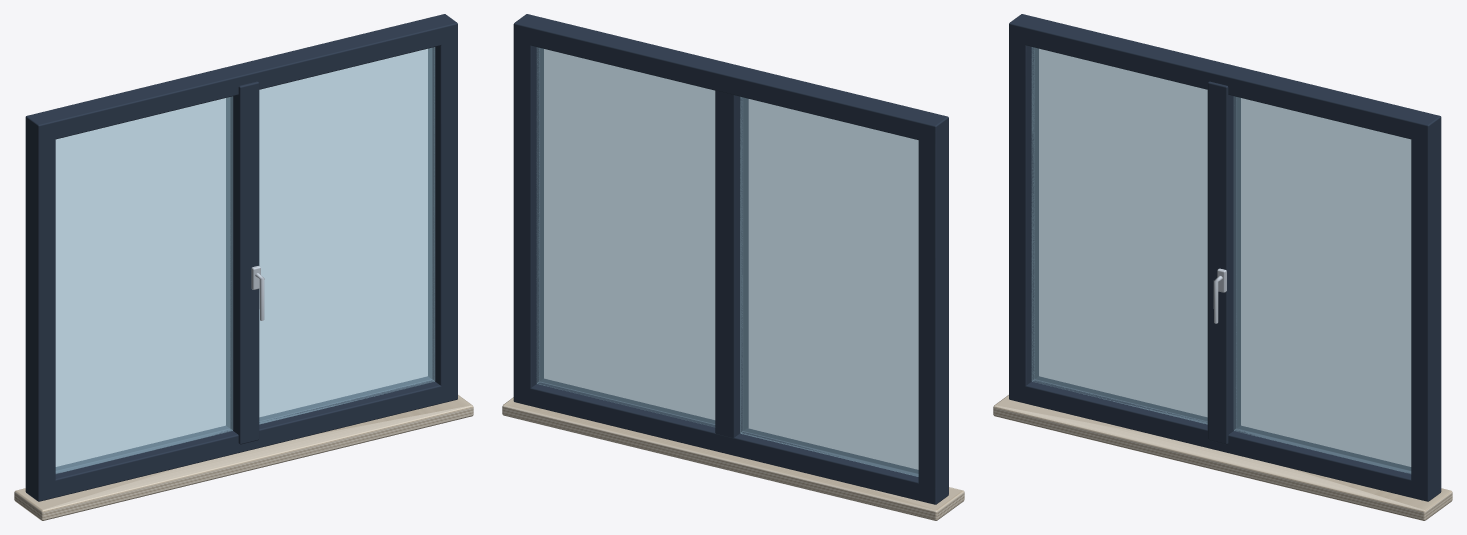
File: obj_arch_window_1400.glb
3 renders of one model, left to right at view 1: azimuth 30°, elevation 25°; view 2: azimuth 150°, elevation 25°; view 3: azimuth 330°, elevation 25°, orthographic.
Parts seen in each view (by area): view 1: obj_arch_window_1400; view 2: obj_arch_window_1400; view 3: obj_arch_window_1400.
Boxes of the visible parts, x1,y1,x2,y2 form: obj_arch_window_1400: (14, 14, 473, 520); obj_arch_window_1400: (502, 14, 964, 520); obj_arch_window_1400: (993, 14, 1452, 520).
Bounding box in the file's own units: 1.4 × 1.2 × 0.16.
Materials: 4 (1 with a texture image).
